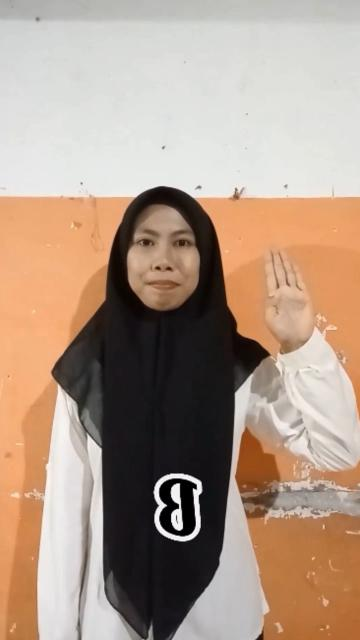B: (262, 243, 312, 347)
